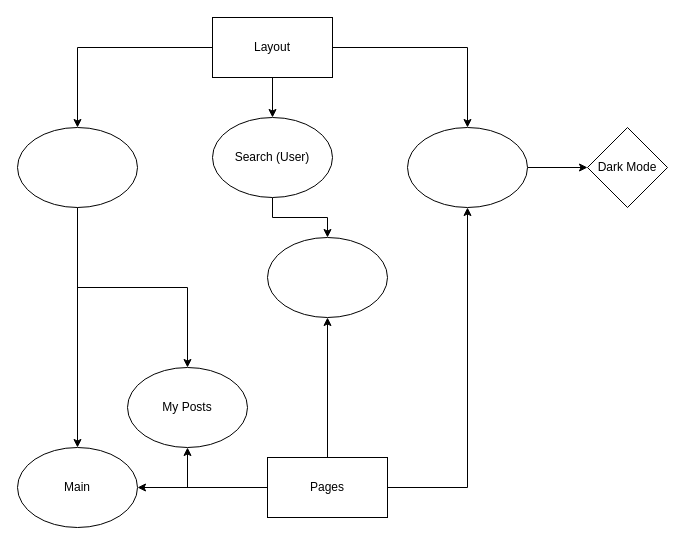
The diagram is 685 pixels wide and 545 high, and some of its shapes have lost their labels. Each missing label, with the centre of its shape:
Navigation bar: the point at 77,167
Search Results: the point at 327,277
Settings: the point at 467,167
